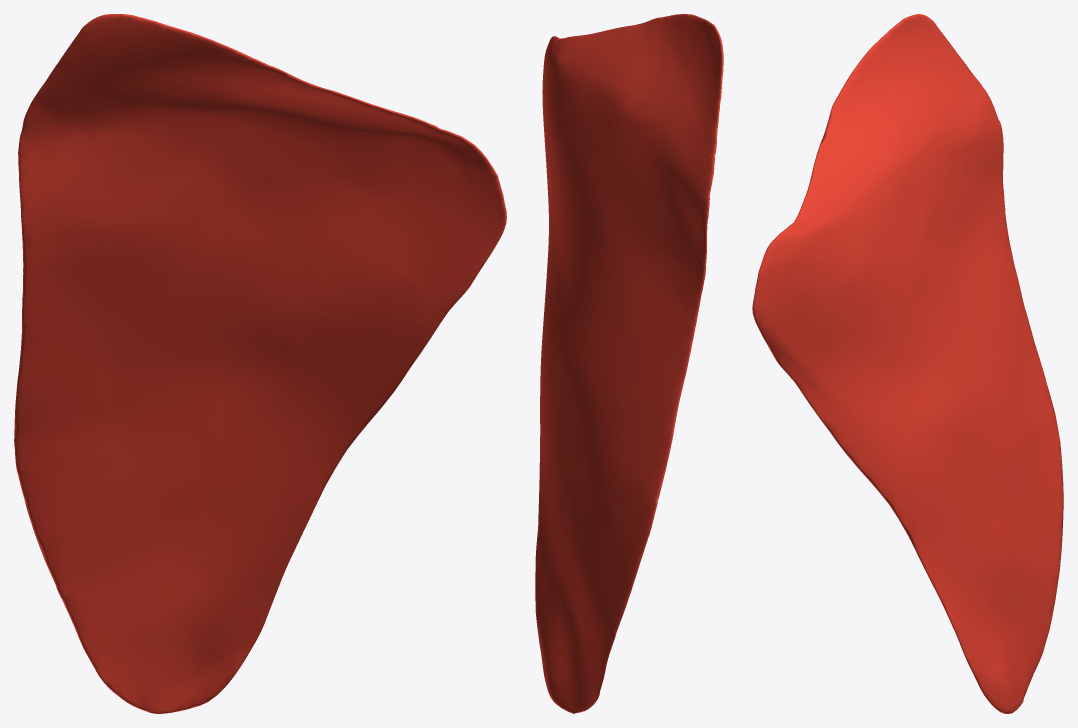
File: Subscapularis_muscle-Scapular_insertion.l_Generated_Mesh_From_X.glb
3 renders of one model, left to right at view 1: azimuth 30°, elevation 25°; view 2: azimuth 150°, elevation 25°; view 3: azimuth 270°, elevation 25°, orthographic. The views are drawn at different scales.
Visible parts, largest first — view 1: Subscapularis_muscle-Scapular_insertion.l_Generated_Mesh_Fro; view 2: Subscapularis_muscle-Scapular_insertion.l_Generated_Mesh_Fro; view 3: Subscapularis_muscle-Scapular_insertion.l_Generated_Mesh_Fro.
Part boxes in pixels (bbox=[...]): Subscapularis_muscle-Scapular_insertion.l_Generated_Mesh_Fro: bbox=[14, 14, 506, 713]; Subscapularis_muscle-Scapular_insertion.l_Generated_Mesh_Fro: bbox=[535, 14, 723, 713]; Subscapularis_muscle-Scapular_insertion.l_Generated_Mesh_Fro: bbox=[752, 14, 1063, 713].
Size of the model in its own units: 0.0604 by 0.1314 by 0.0572.
